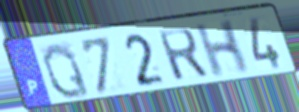2: (123, 32, 168, 89)
4: (248, 15, 284, 71)
7: (79, 34, 114, 96)
H: (193, 17, 251, 81)
Q: (40, 41, 93, 100)
R: (155, 26, 211, 83)
